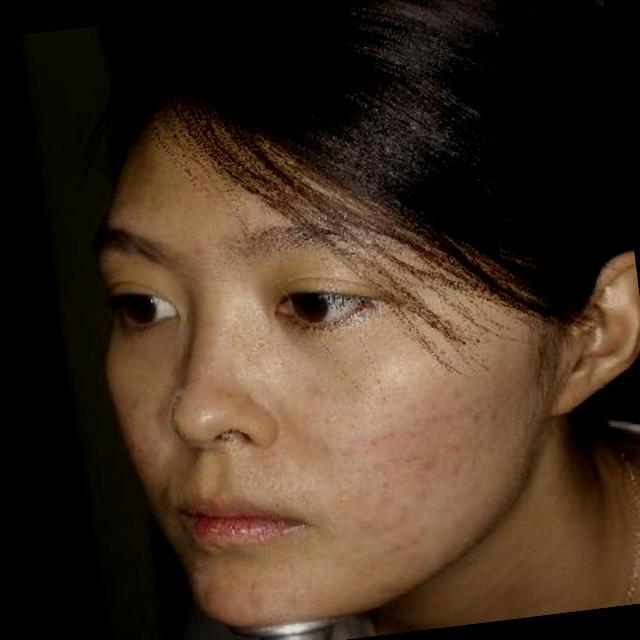blackhead: (344, 420, 356, 430)
darkspot: (415, 452, 441, 472), (360, 435, 380, 453), (394, 450, 416, 466), (420, 361, 439, 379), (374, 518, 394, 534), (467, 410, 482, 426), (376, 428, 391, 444), (309, 385, 326, 399), (448, 388, 464, 402), (392, 512, 408, 526), (384, 426, 398, 438)
